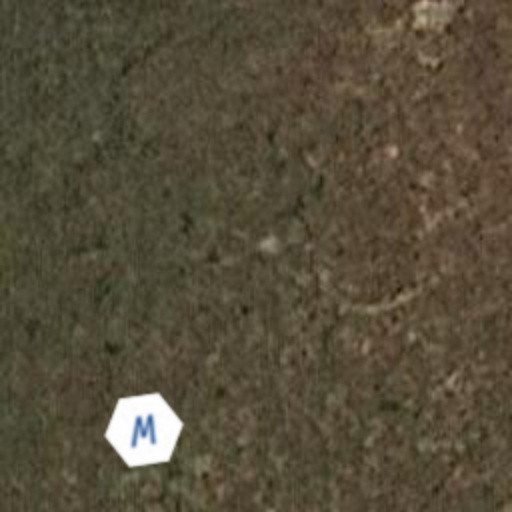hexagon: (98, 384, 190, 476)
